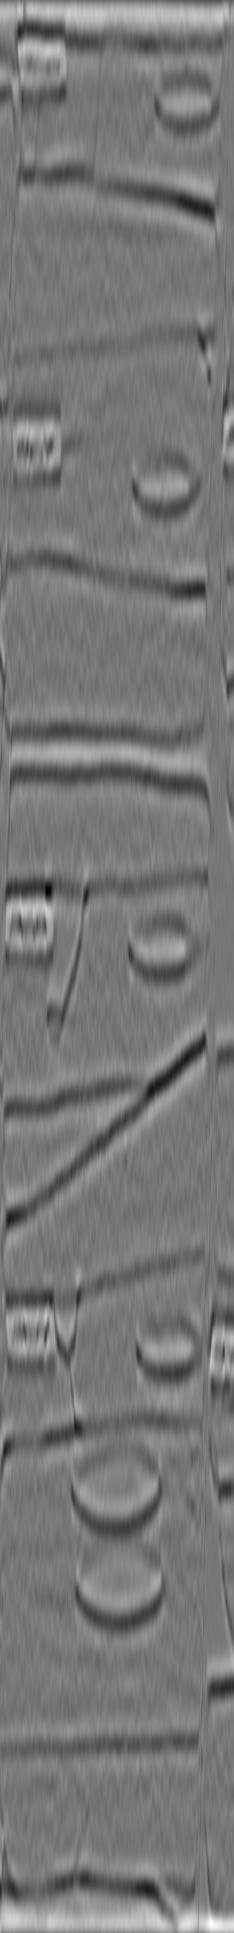hplug: (122, 907, 204, 987), (126, 445, 208, 523), (126, 1309, 204, 1387), (147, 63, 224, 139)
scal: (67, 1437, 167, 1537), (64, 1539, 167, 1635)
vplug: (38, 35, 108, 182), (30, 439, 102, 570)
